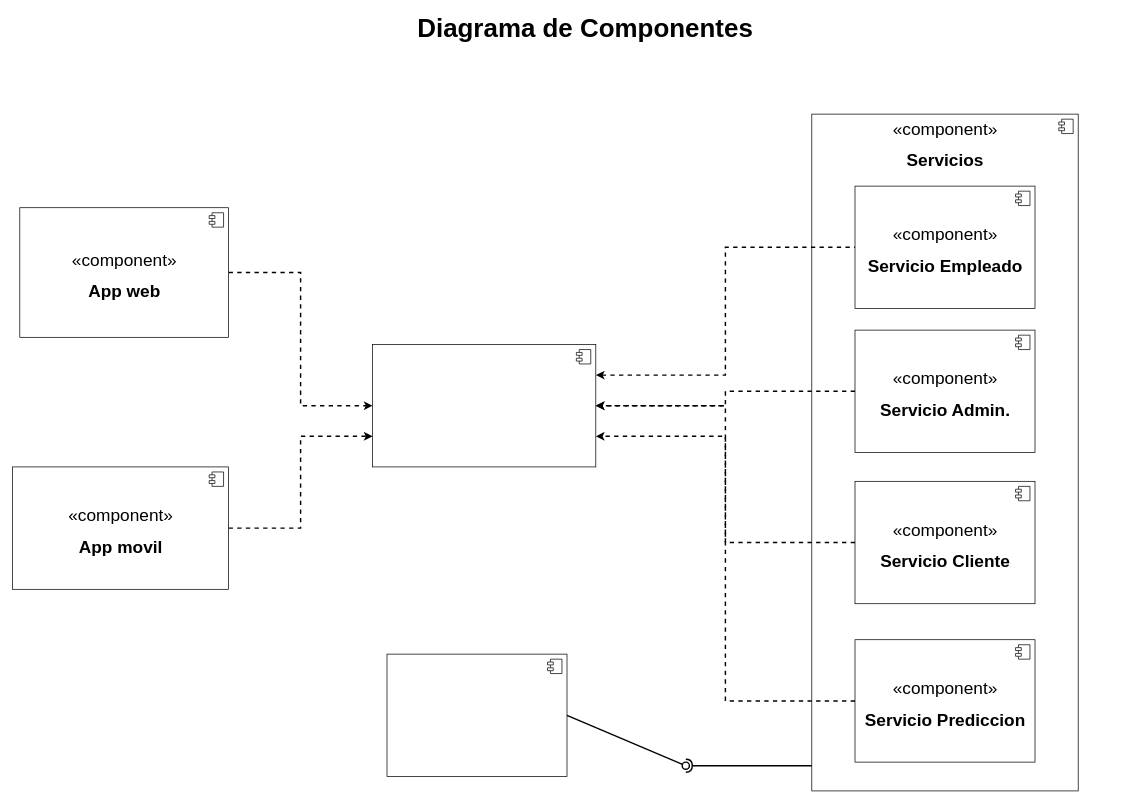
Some shapes in this 1141 by 807 pixel diagram are drawn without their labels. Here are the shapes that lost their labels. From the top down, the centre of each, then its label:
pixel 484 405: «component» ESB
pixel 476 715: «component» Base de datos
